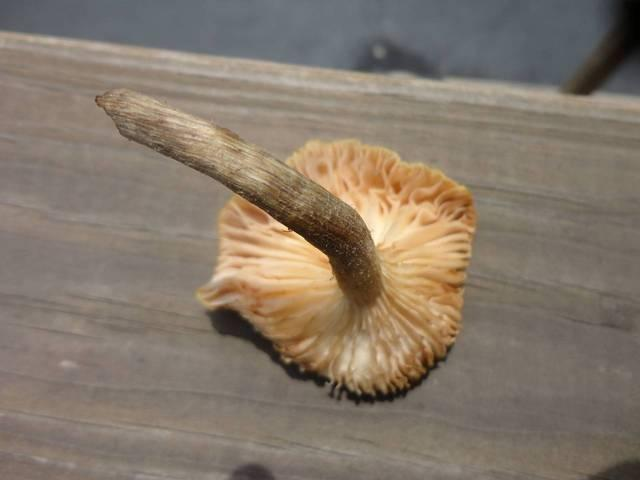Edible Mushroom: (94, 85, 477, 401)
